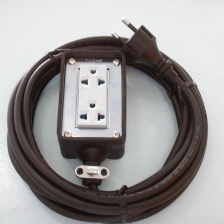three_eye_plug: (51, 47, 131, 161)
